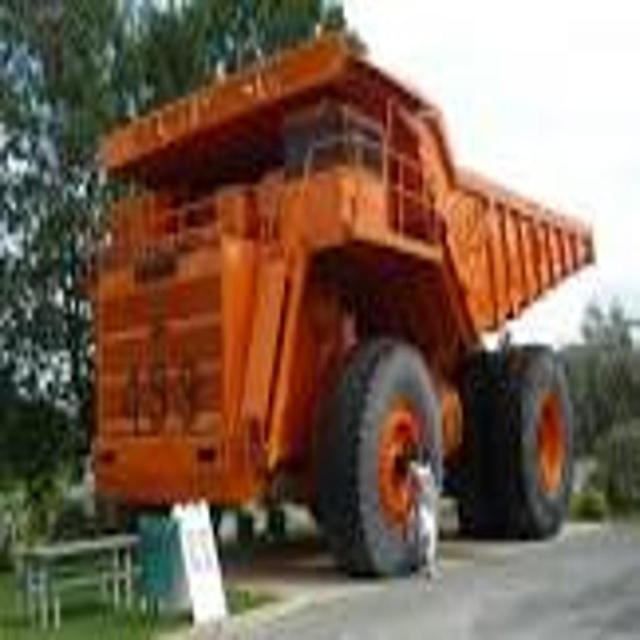dump_truck: (73, 38, 600, 556)
